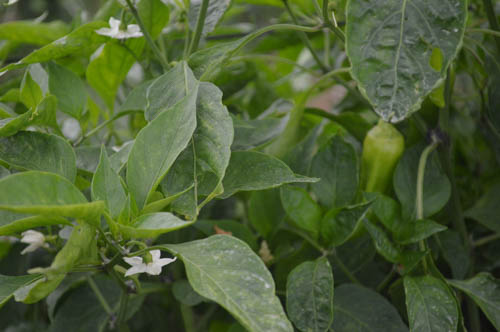ChiliPepper: (355, 132, 403, 242)
